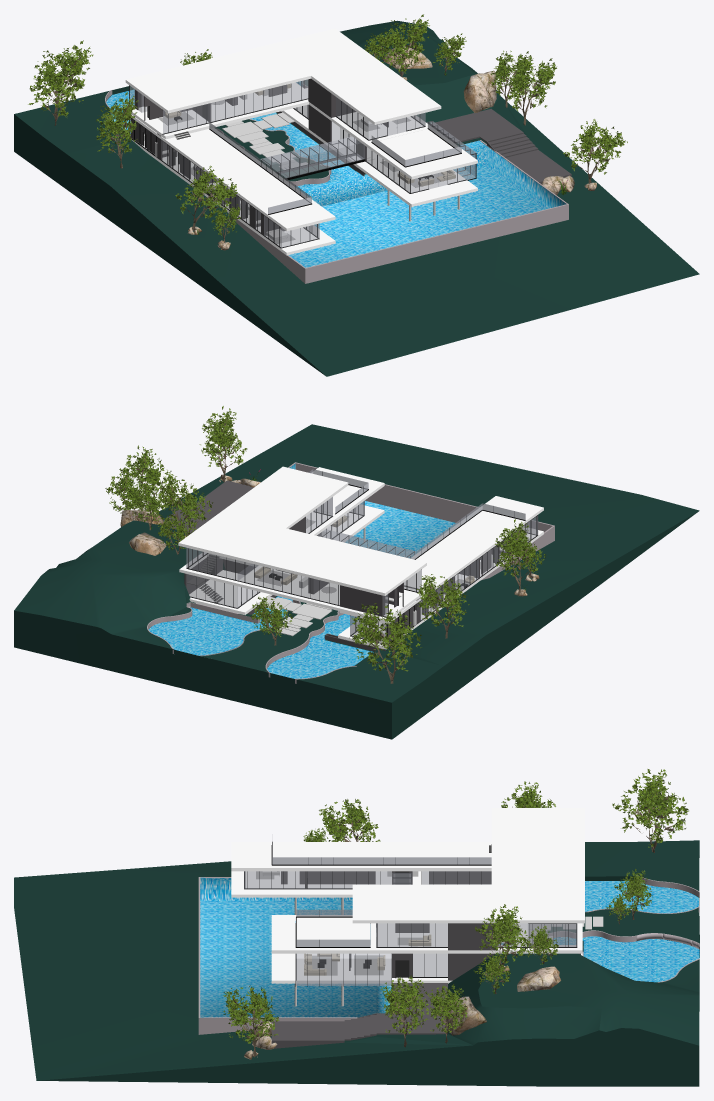
Rendered from beach-house.glb.
The picture shows the model from 3 angles, top to bottom: view 1: azimuth 30°, elevation 25°; view 2: azimuth 150°, elevation 25°; view 3: azimuth 270°, elevation 25°; orthographic projection. The views are drawn at different scales.
Visible parts, largest first — view 1: Ground, 1stFloor, poolFloor, Glasses, Trees, gardenPassage, windowBorder, Rocks, Carpets; view 2: Ground, 1stFloor, Trees, Glasses, poolFloor, gardenPassage, windowBorder, Rocks, Carpets; view 3: Ground, 1stFloor, poolFloor, Trees, Glasses, gardenPassage, windowBorder, Rocks, Carpets, Corner_sofa, Doors_Sliding.
Boxes of the visible parts, <box> form: Ground: <box>14,20,699,376</box>; 1stFloor: <box>125,28,571,255</box>; poolFloor: <box>106,81,566,267</box>; Glasses: <box>129,79,476,247</box>; Trees: <box>28,14,627,242</box>; gardenPassage: <box>105,81,568,283</box>; windowBorder: <box>129,80,476,248</box>; Rocks: <box>188,46,596,250</box>; Carpets: <box>144,89,443,243</box>; Ground: <box>14,424,699,739</box>; 1stFloor: <box>163,466,543,651</box>; Trees: <box>105,406,546,683</box>; Glasses: <box>186,469,538,643</box>; poolFloor: <box>148,463,457,678</box>; gardenPassage: <box>147,462,554,683</box>; windowBorder: <box>186,471,537,643</box>; Rocks: <box>120,474,539,596</box>; Carpets: <box>257,515,530,640</box>; Ground: <box>14,840,699,1086</box>; 1stFloor: <box>231,808,584,1048</box>; poolFloor: <box>200,877,699,1017</box>; Trees: <box>223,769,688,1057</box>; Glasses: <box>244,834,577,985</box>; gardenPassage: <box>198,875,699,1034</box>; windowBorder: <box>244,841,577,986</box>; Rocks: <box>244,964,560,1059</box>; Carpets: <box>256,871,422,975</box>; Corner_sofa: <box>304,934,431,975</box>; Doors_Sliding: <box>305,871,409,978</box>.
Bounding box in the file's own units: 60.71 × 17.64 × 79.86.
21 materials, 6 textured.
